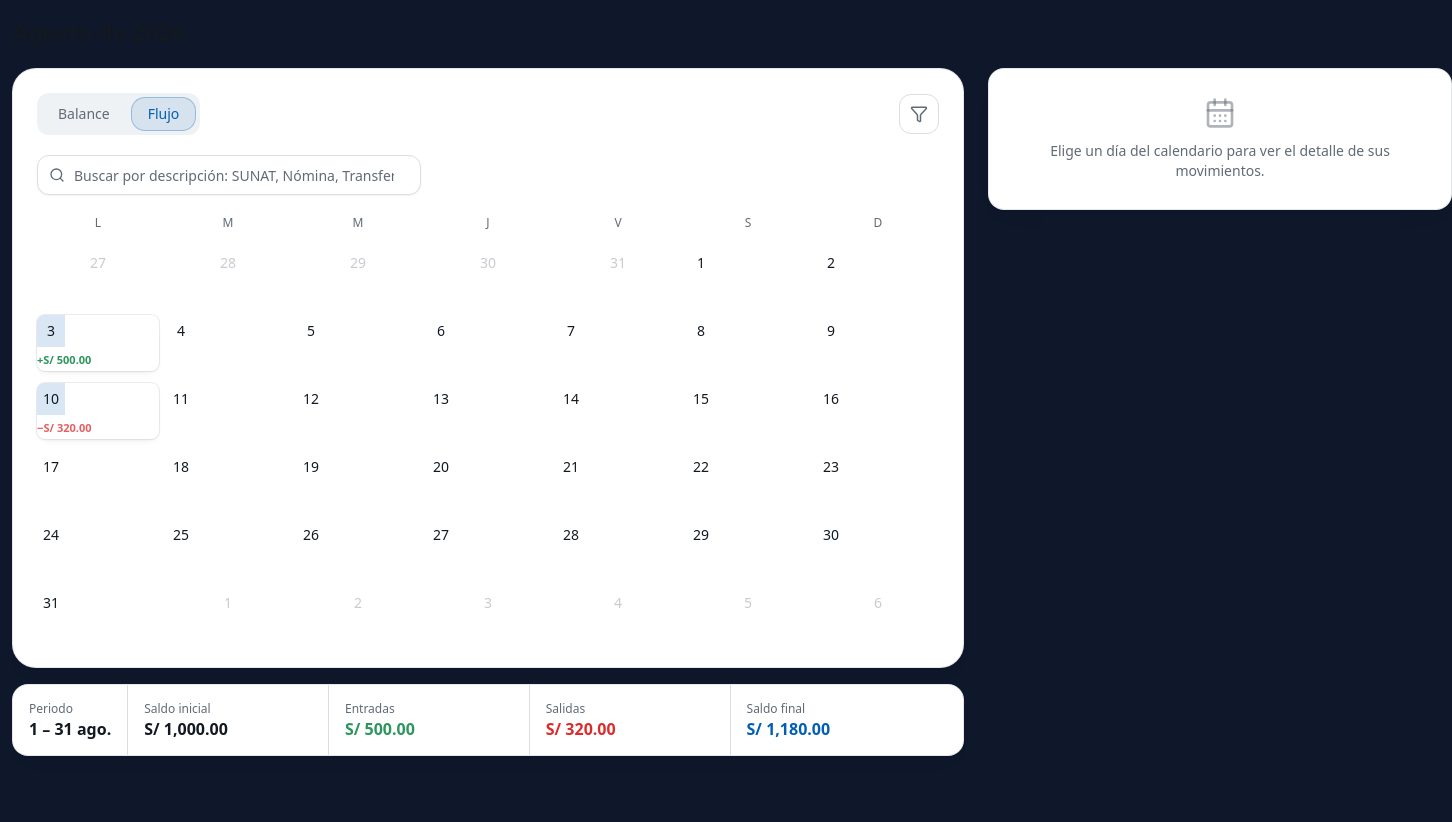
Test: FinancialCalendarView: buscador › filtra el detalle del día y avisa cuando nada coincide
Type "yape" into the search field at coordinates (229, 175), box [37,155,421,195]
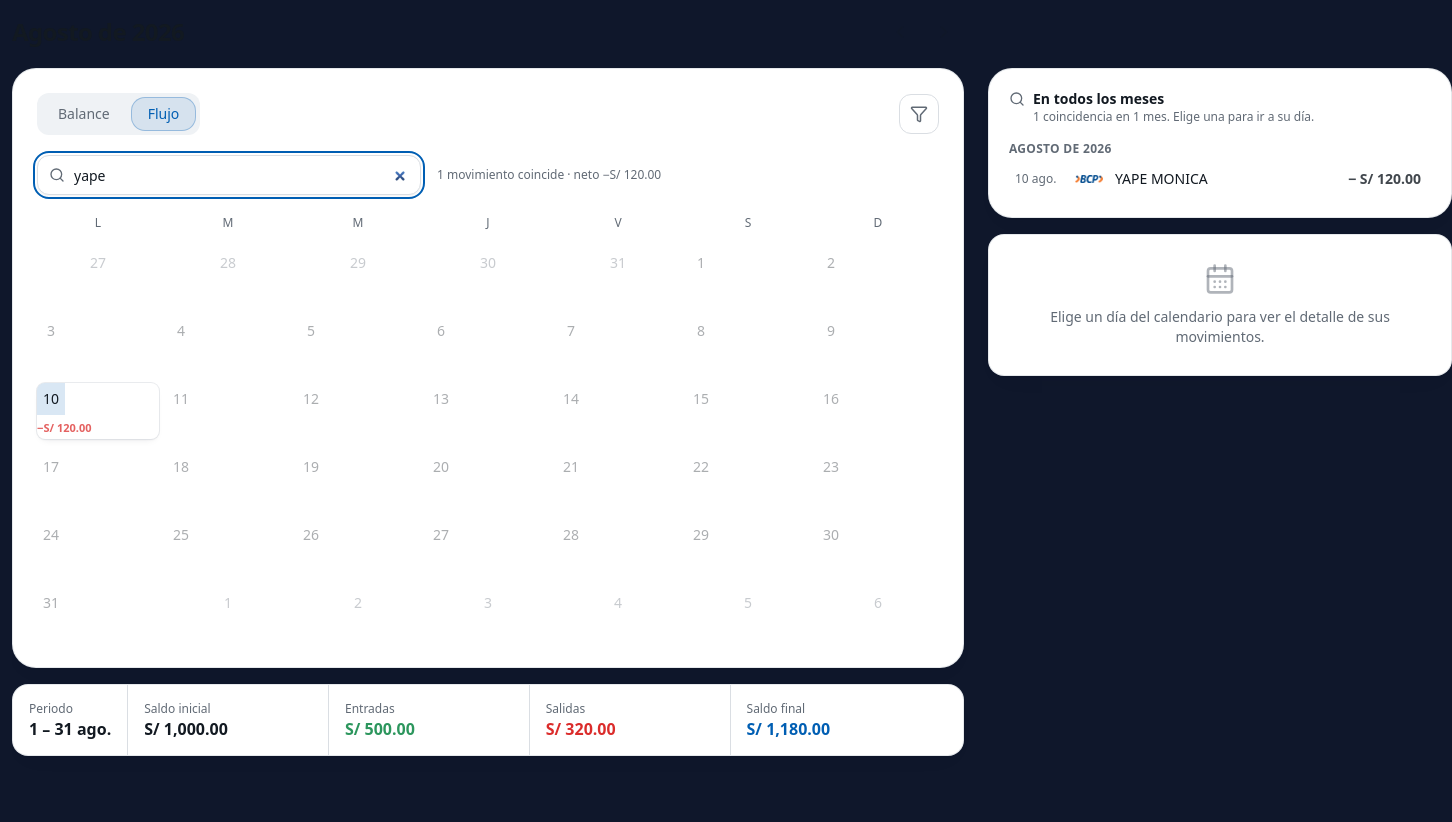
Click the button "10 −S/ 120.00" at coordinates (98, 411), box [37,383,159,439]
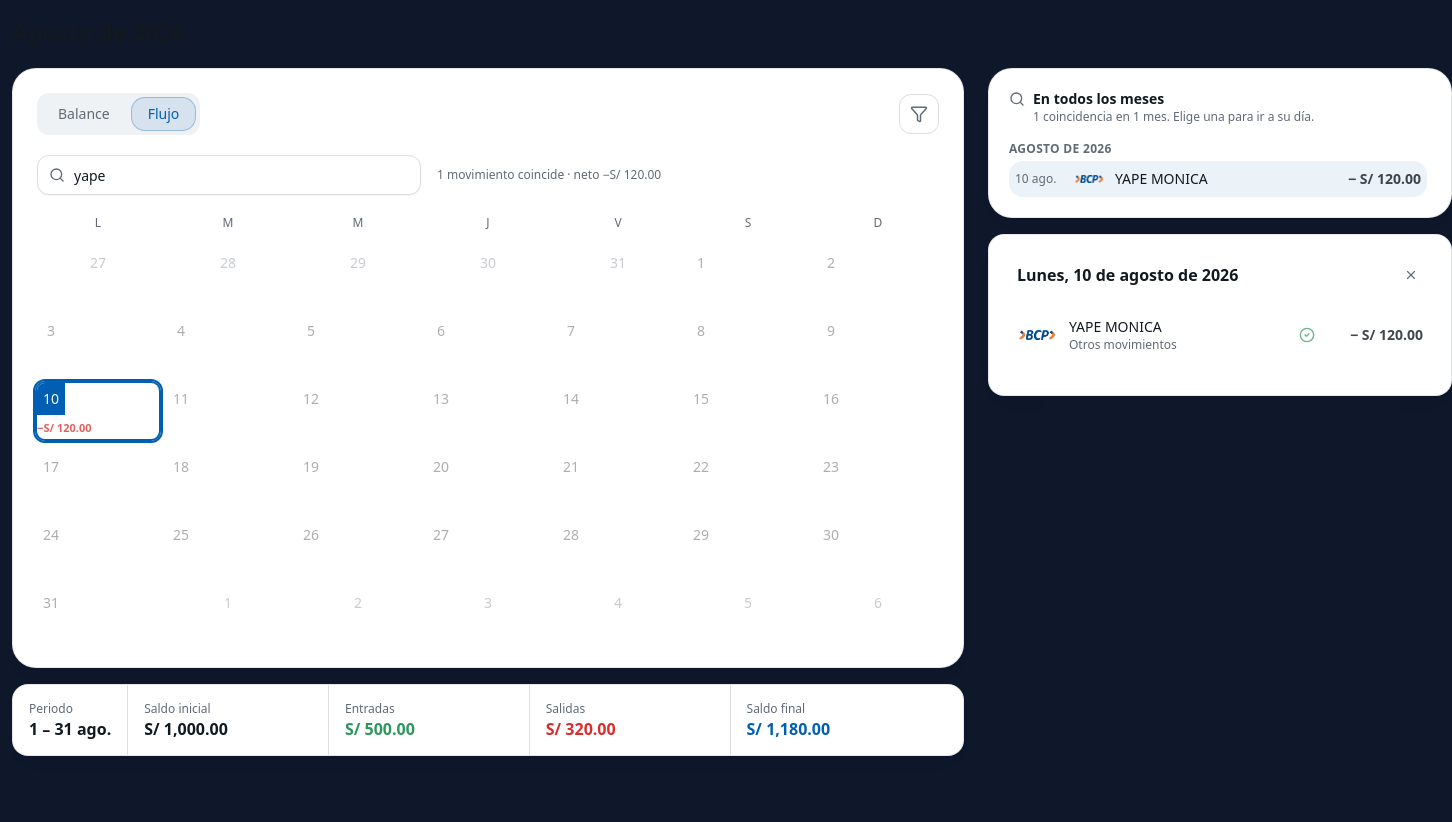
Expected: the 1st text "YAPE MONICA" is shown, [1115,169,1208,188]
Expected: the text "YAPE MONICA" is shown 2 times, [1115,169,1208,188]; [1069,317,1162,336]
Replace the text in the search field with "zzz" at coordinates (229, 175), box [37,155,421,195]
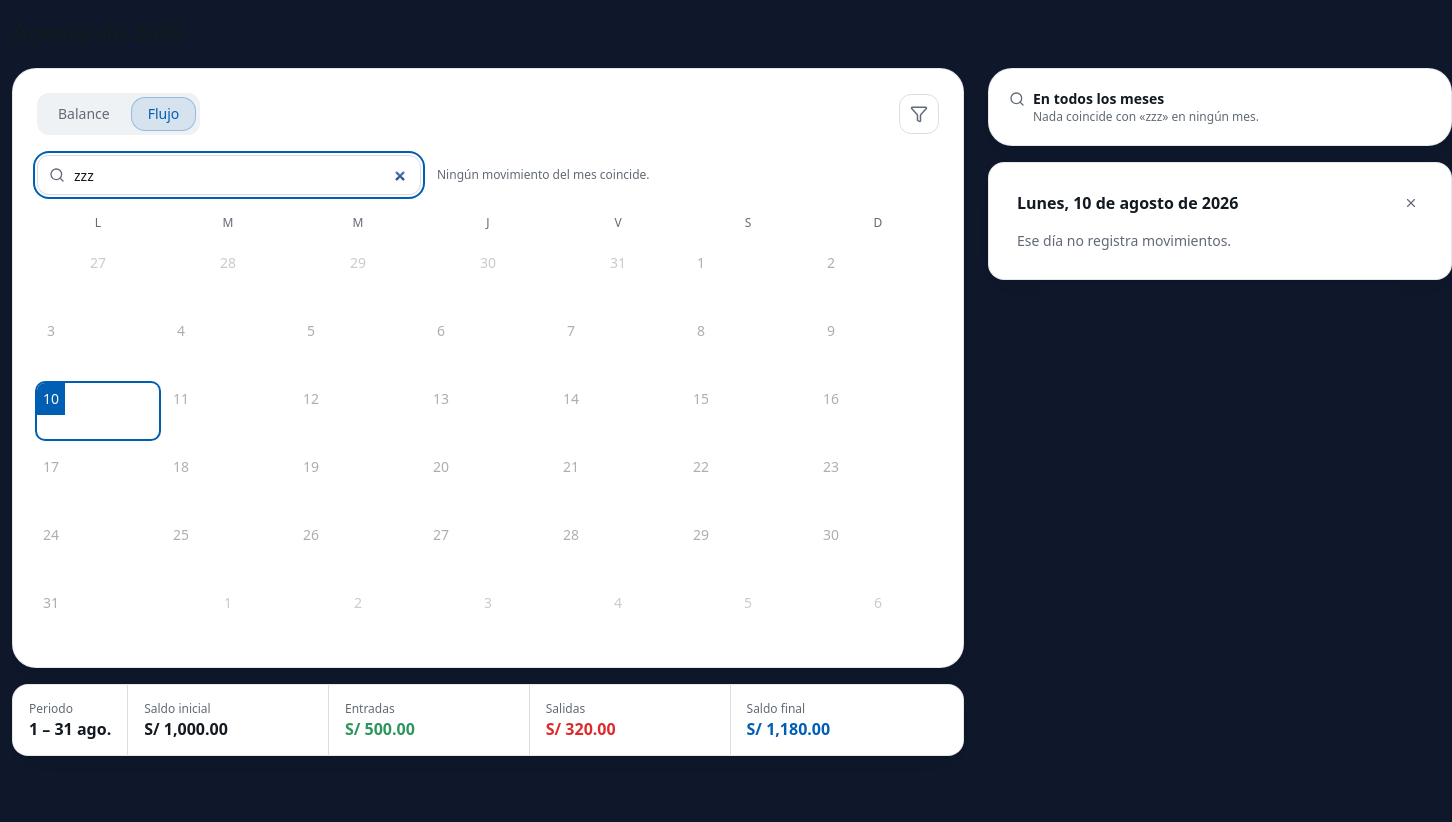
Expected: the text "Ningún movimiento del mes coincide." is shown, [437,167,650,183]
